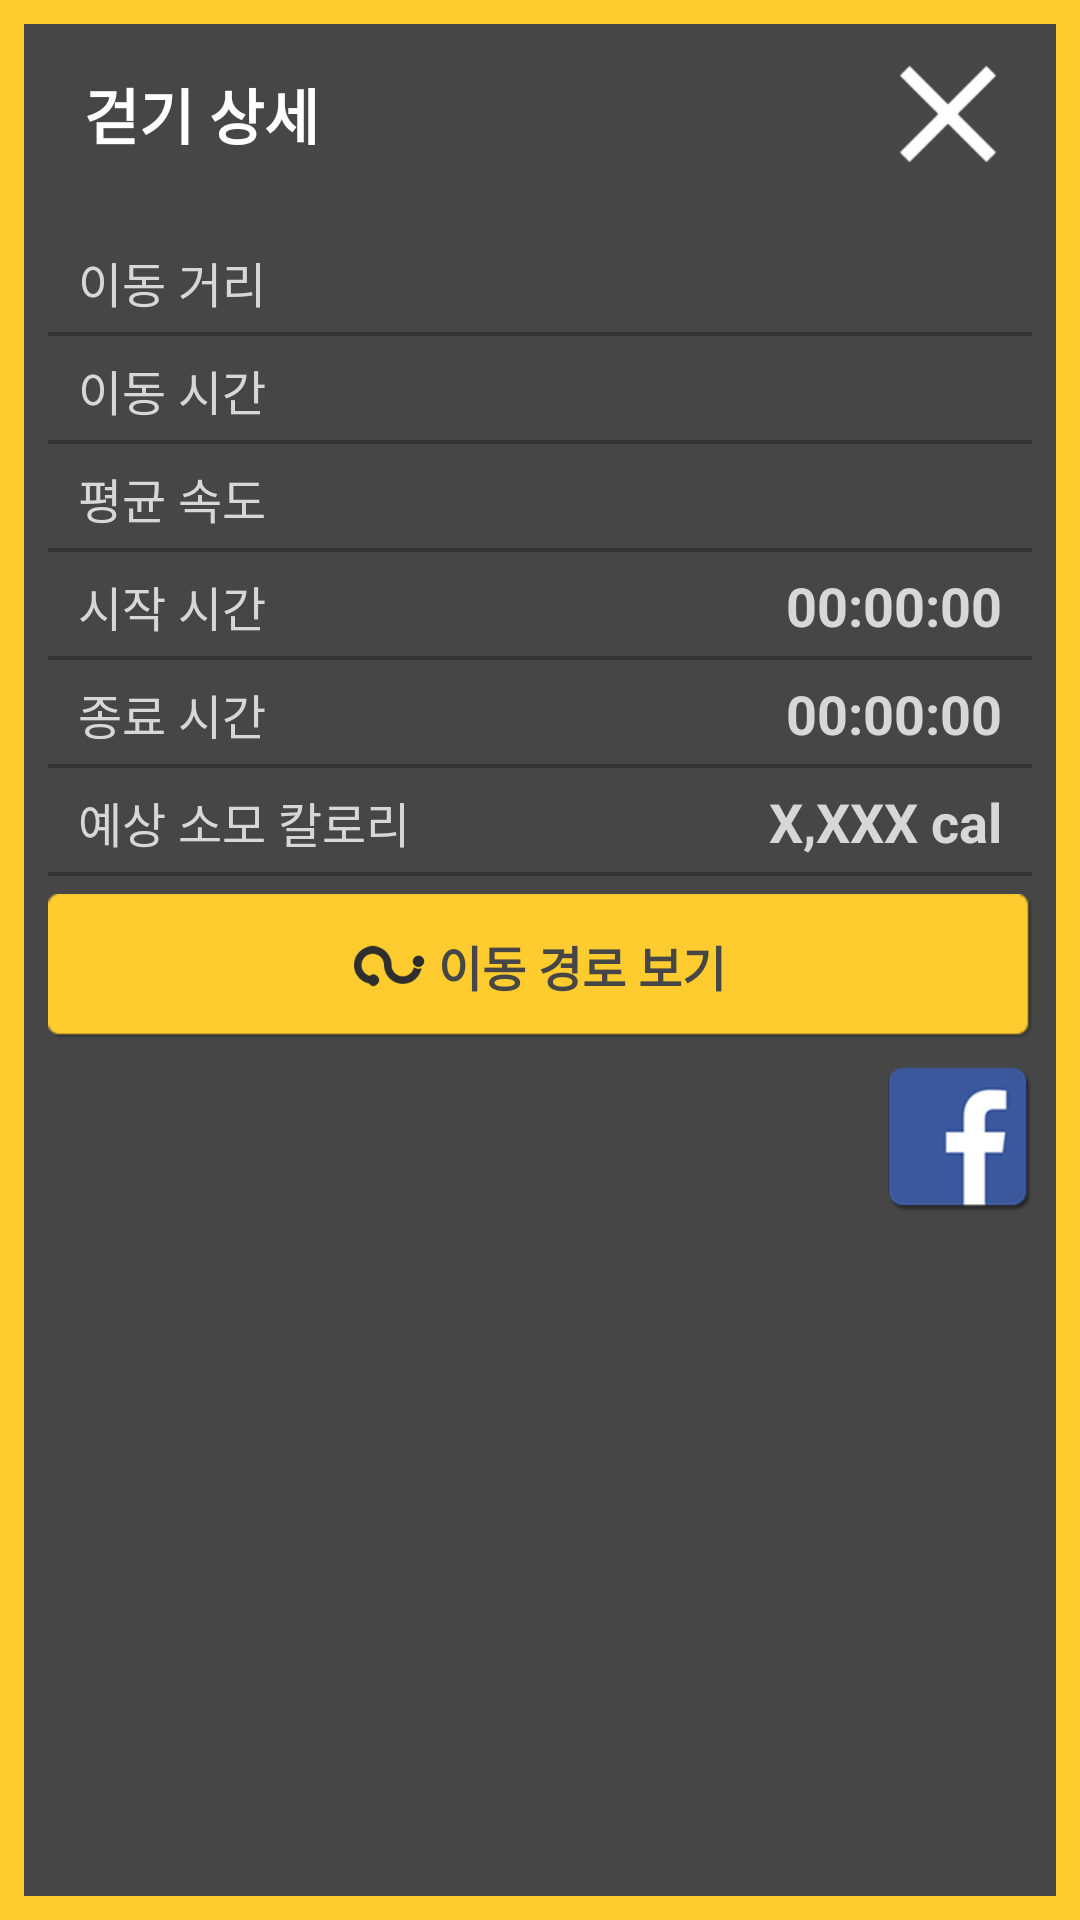

Icons on this 1080px×1920px Android screen, each with the point to tap as point (x, y):
detail close: point (948, 114)
detail route: point (389, 966)
